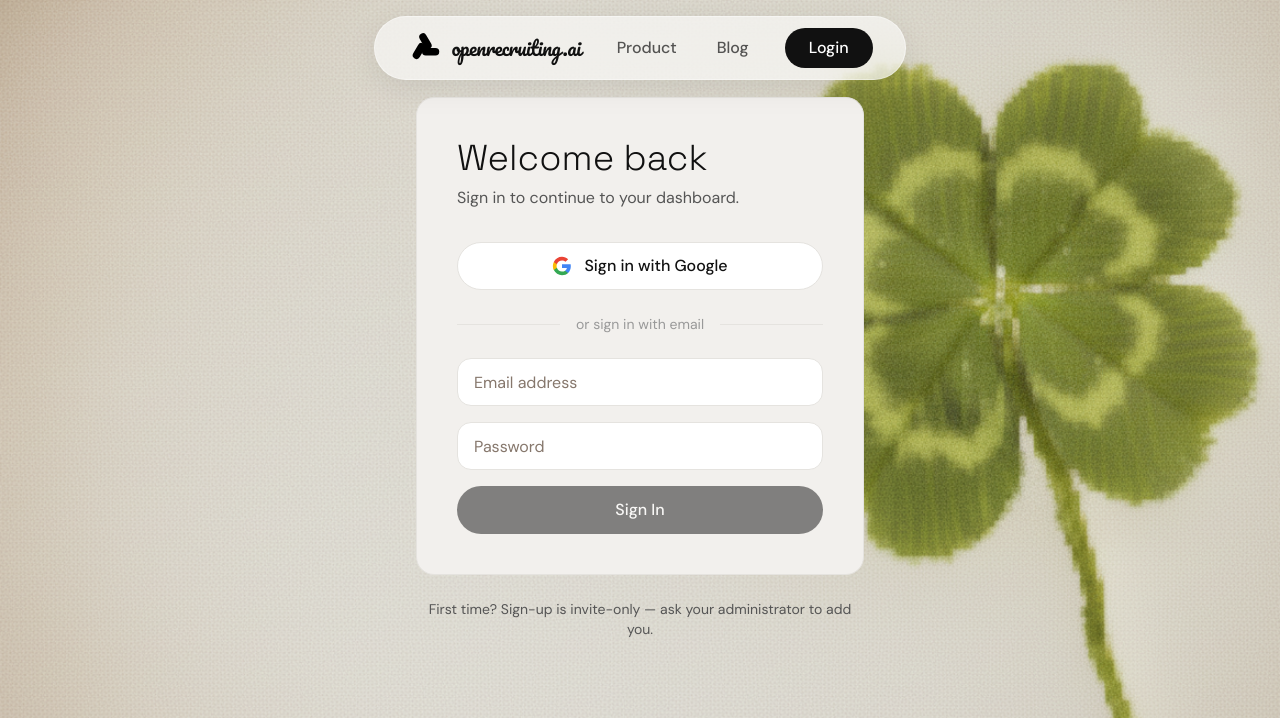
Login page password sign-in (page integration) › shows error and does not redirect when no session is created post-signin
The image size is (1280, 718).
Expected: the form with id "login-form" is shown, [457,358,823,534]
Step 1. Type "user@example.com" into the field with id "login-email" → (640, 382), box [457,358,823,406]
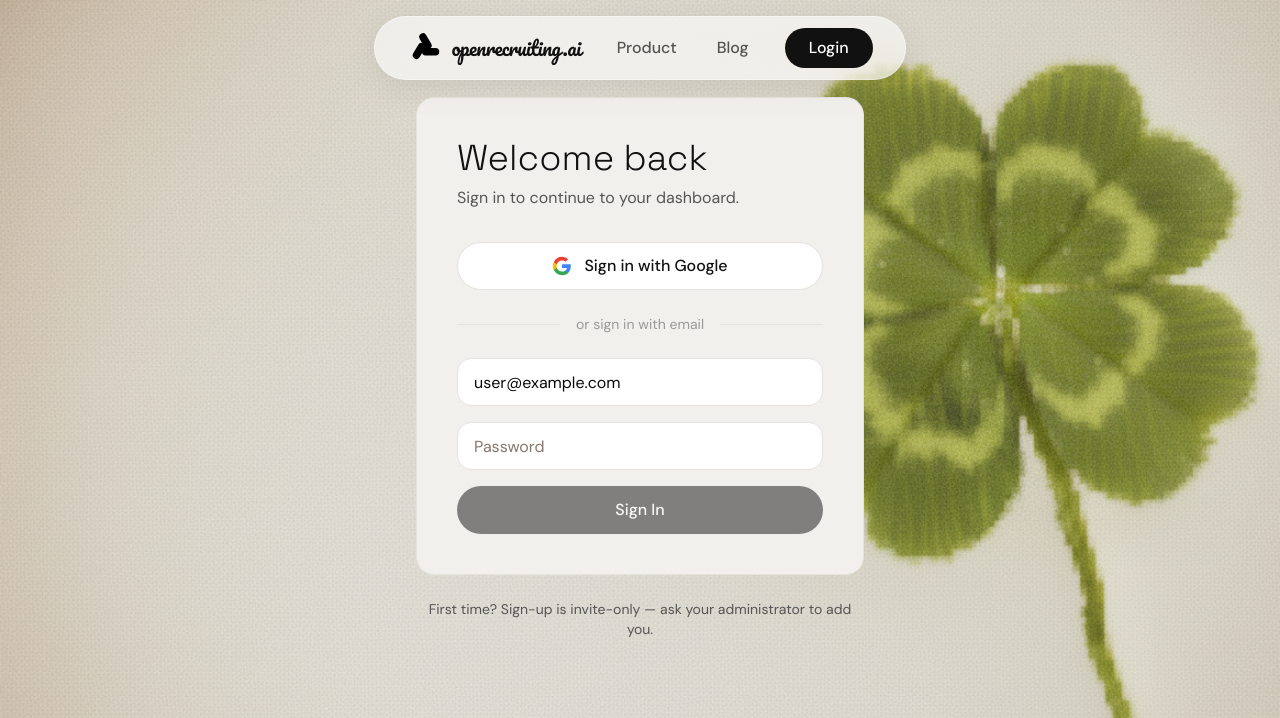
Step 2. Type "secret123" into the password field with id "login-password" → (640, 446), box [457,422,823,470]
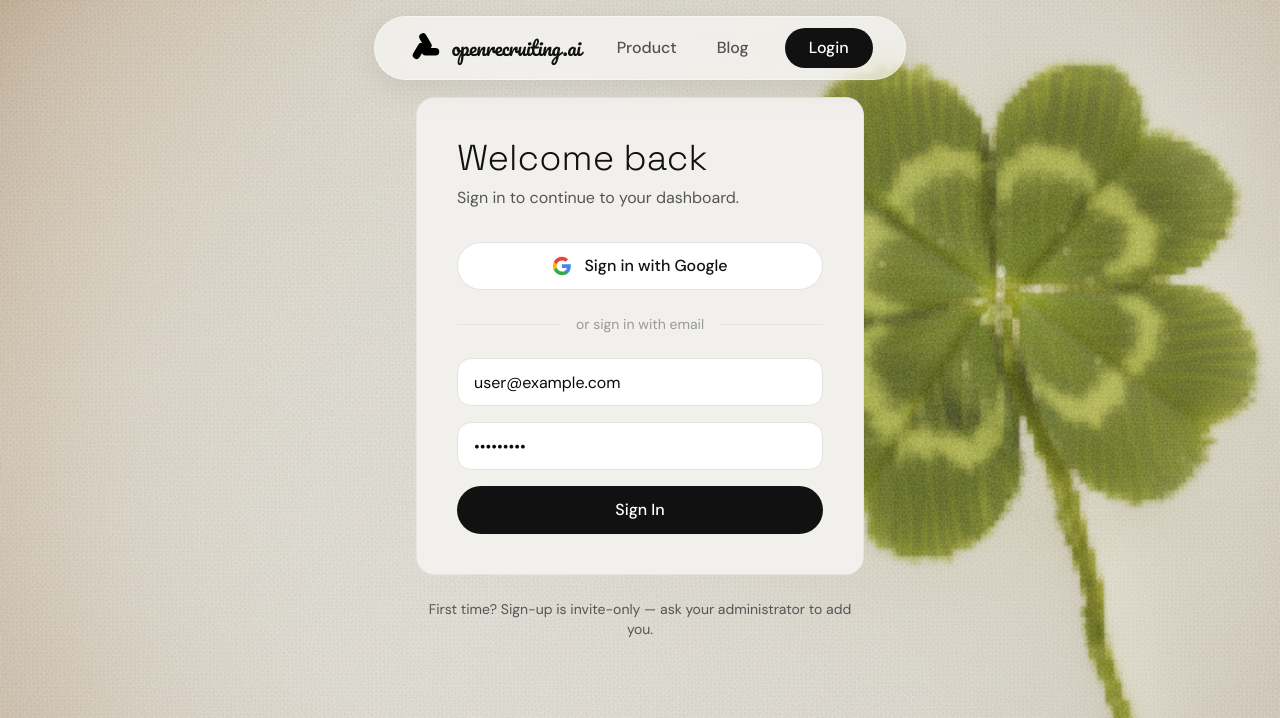
Step 3. Submit the form with id "login-form", box [457,358,823,534]
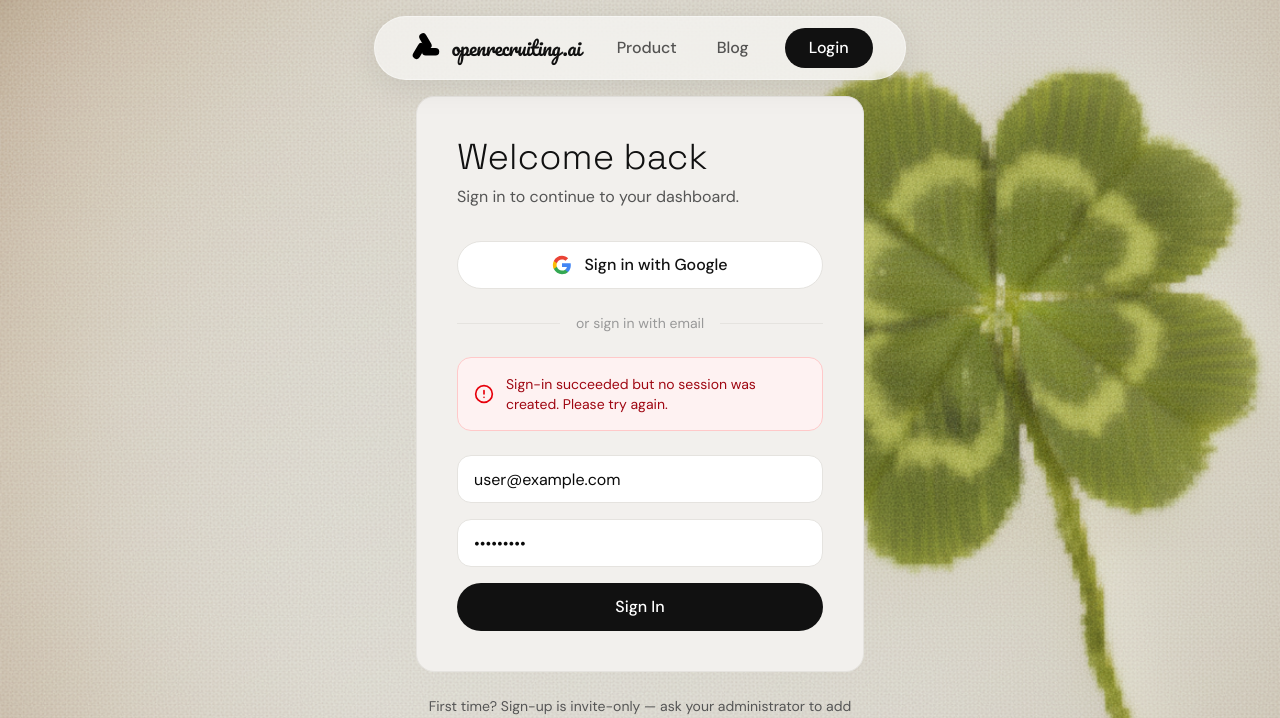
Result: the text "no session was created" is shown at [506,375,756,413]
